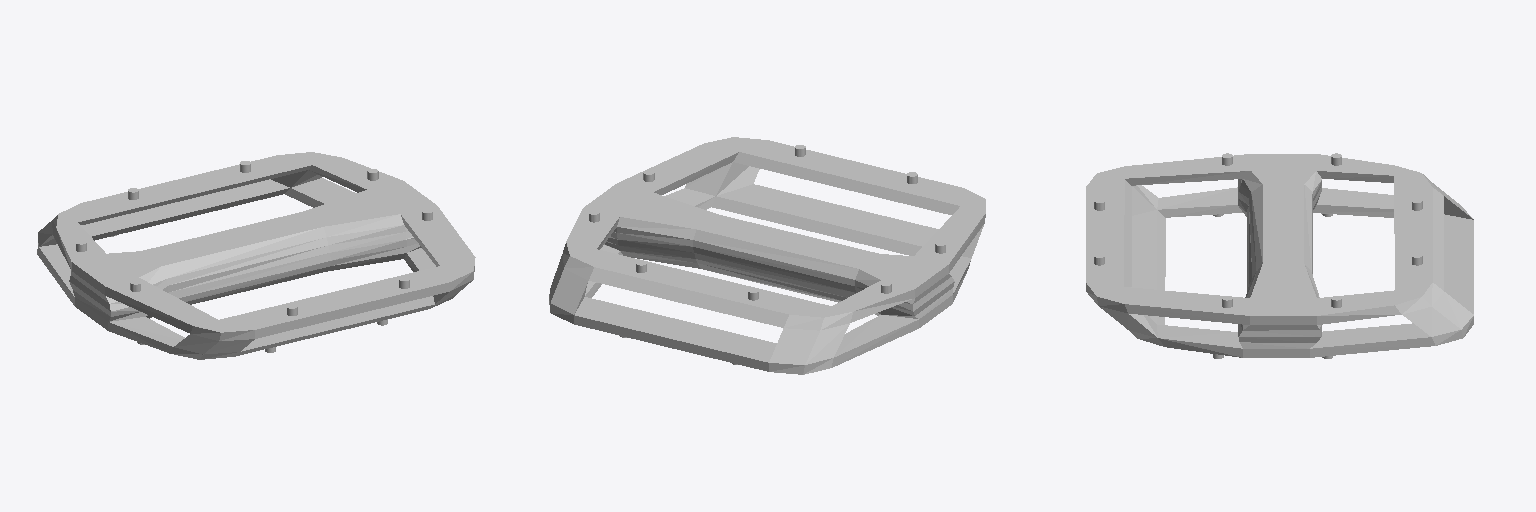
The model's file is slimPedal.obj.
3 views of the same model, side by side, from view 1: azimuth 30°, elevation 25°; view 2: azimuth 150°, elevation 25°; view 3: azimuth 270°, elevation 25° (orthographic).
Parts seen in each view (by area): view 1: slim; view 2: slim; view 3: slim.
Boxes of the visible parts, box(x1,y1,x2,y2) form: slim: box(37, 152, 475, 359); slim: box(549, 137, 985, 374); slim: box(1086, 153, 1473, 358).
Size of the model in its own units: 0.0927 by 0.0153 by 0.0938.